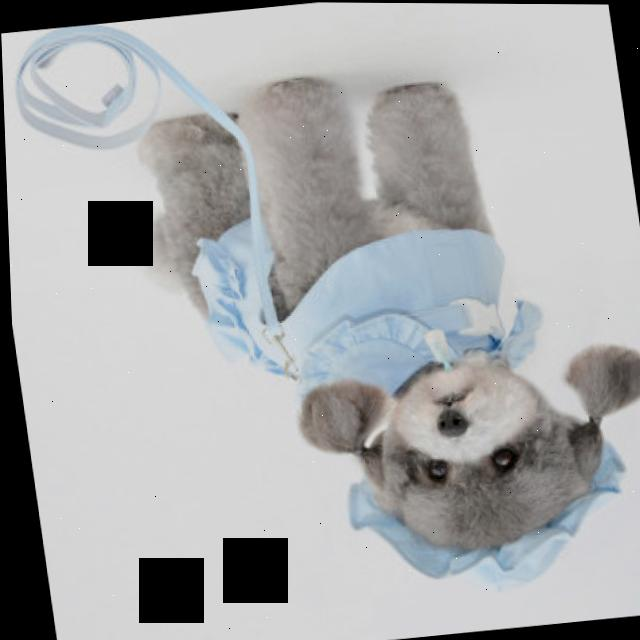cloth: (187, 218, 536, 396), (345, 442, 618, 586)
